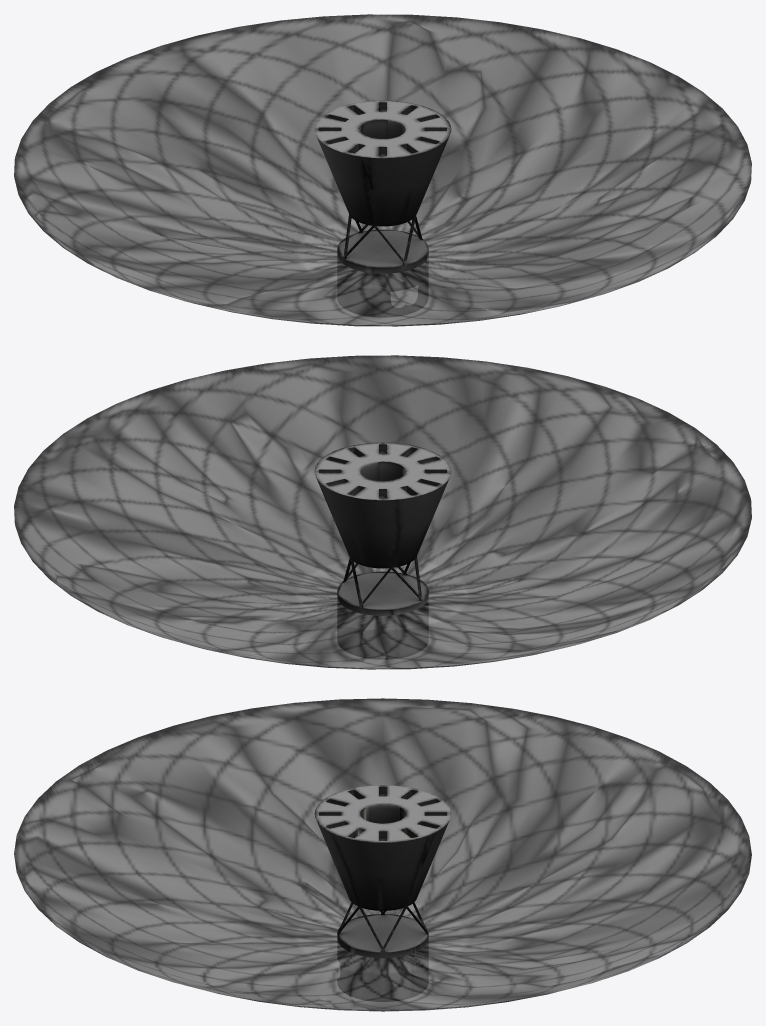
The model's file is Tracking and Data Relay Satellites (TDRS) [left antenna].glb.
3 renders of one model, top to bottom at view 1: azimuth 30°, elevation 25°; view 2: azimuth 150°, elevation 25°; view 3: azimuth 270°, elevation 25°, orthographic.
Visible parts, largest first — view 1: ant_left.l; view 2: ant_left.l; view 3: ant_left.l.
Boxes of the visible parts, bbox=[...] form: ant_left.l: bbox=[14, 14, 751, 326]; ant_left.l: bbox=[14, 355, 751, 669]; ant_left.l: bbox=[14, 698, 751, 1011].
Bounding box in the file's own units: 8.1 × 2.05 × 8.1.
2 materials, 2 textured.
